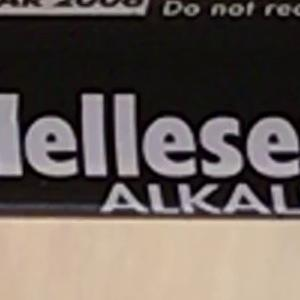ALK: (90, 174, 218, 223)
